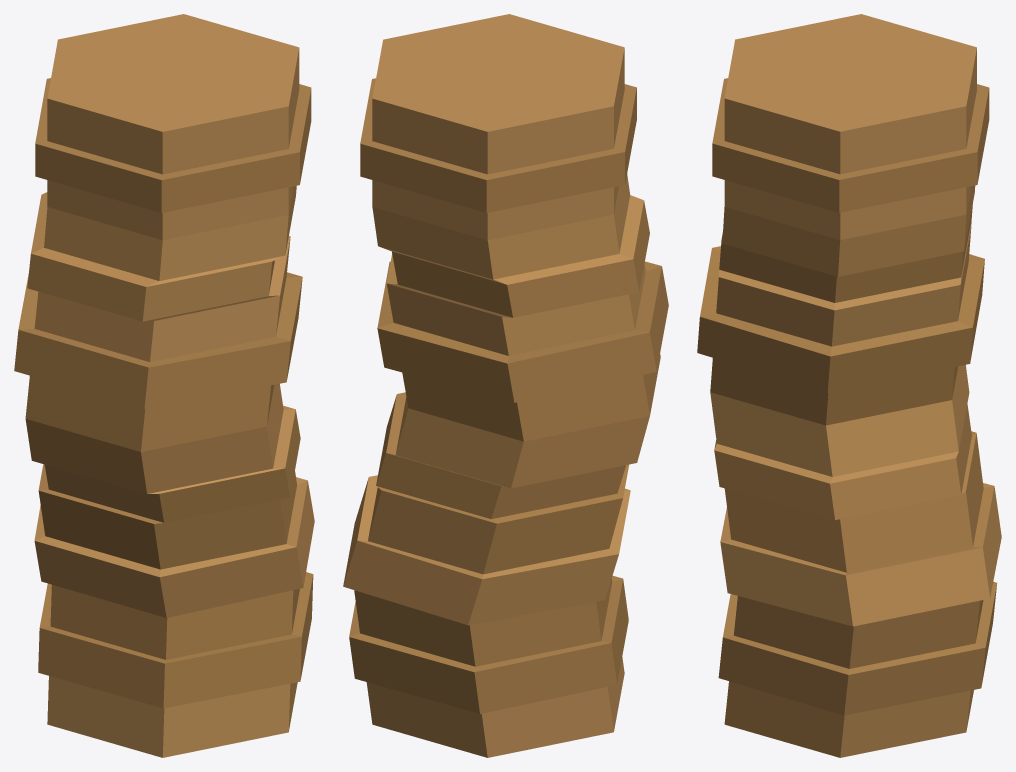
File: Prop_Coin_Stack_01.glb
The picture shows the model from 3 angles, left to right: view 1: azimuth 30°, elevation 25°; view 2: azimuth 150°, elevation 25°; view 3: azimuth 270°, elevation 25°; orthographic projection.
Visible parts, largest first — view 1: SM_Gen_Prop_Coin_Stack_01; view 2: SM_Gen_Prop_Coin_Stack_01; view 3: SM_Gen_Prop_Coin_Stack_01.
Part boxes in pixels (<box>): SM_Gen_Prop_Coin_Stack_01: <box>14,14,314,757</box>; SM_Gen_Prop_Coin_Stack_01: <box>343,14,668,757</box>; SM_Gen_Prop_Coin_Stack_01: <box>697,14,1001,757</box>.
Size of the model in its own units: 0.1639 by 0.3254 by 0.1435.
Materials: 1 (1 with a texture image).
